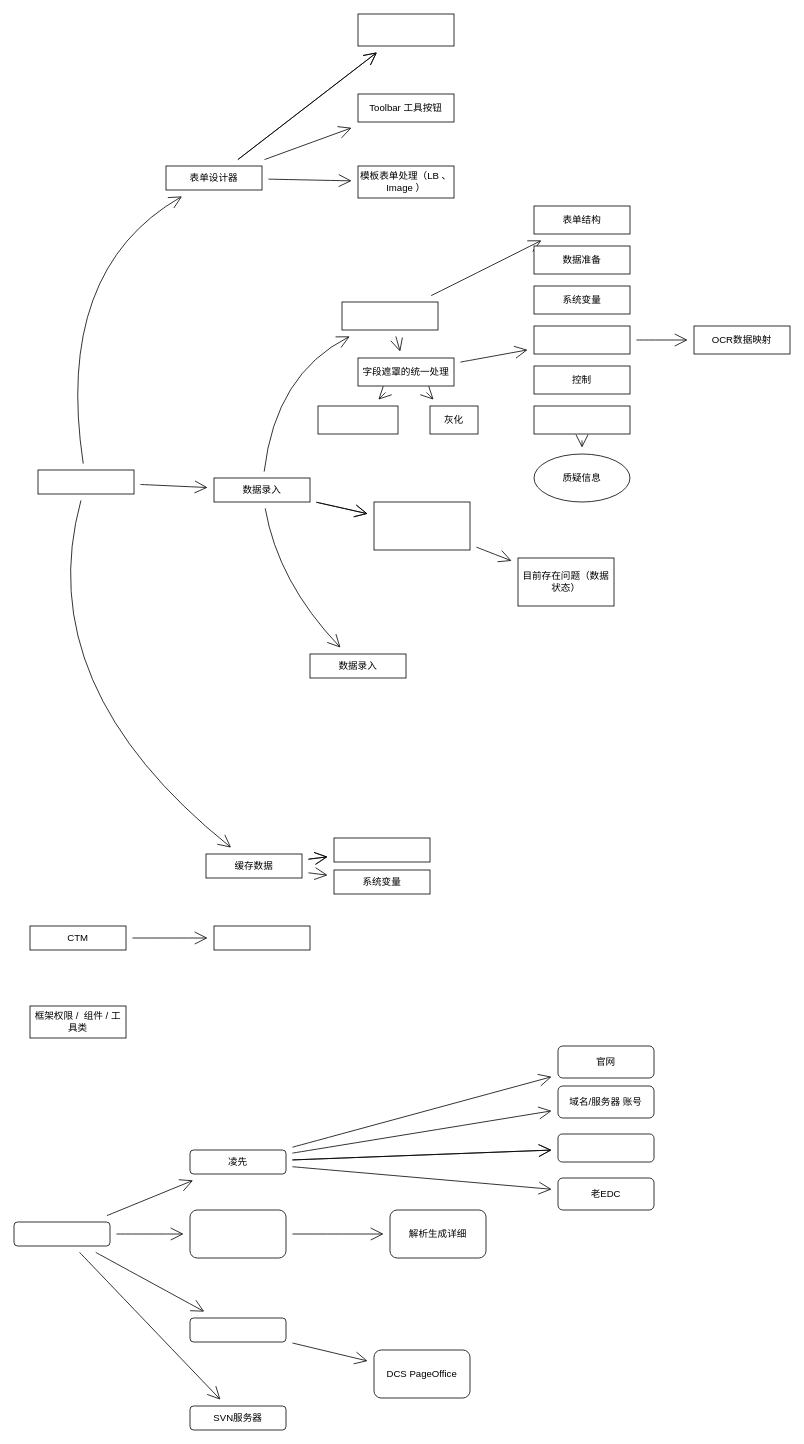
Image size: 804x1444. Some labels were removed from this diagram. The shapes that lost their labels are listed below. From the top down, each one's box as (x1, y1, x2, y2) in pixels, then its label:
(357, 13, 454, 46): 新控件编写流程
(341, 301, 438, 330): 数据获取过程
(533, 325, 630, 354): 原数据映射
(317, 405, 398, 434): 填写指南
(533, 405, 630, 434): 赋值
(37, 469, 134, 494): SDC / EDC
(373, 501, 470, 550): 数据提交准备
(333, 837, 430, 862): 基础信息（项目）
(213, 925, 310, 950): swagger接口整理
(557, 1133, 654, 1162): GoodTrials
(13, 1221, 110, 1246): 服务器
(189, 1209, 286, 1258): NodeJs 服务器
(189, 1317, 286, 1342): Nginx 部署
